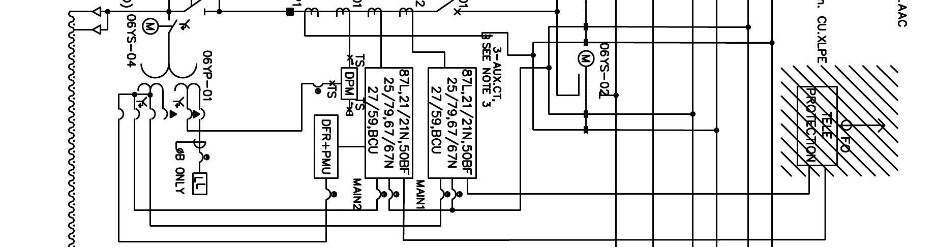115_1way_ds_w_motor: (577, 49, 601, 100), (141, 17, 178, 35)
115_vt_3p: (135, 19, 206, 121)
DPM: (340, 66, 359, 101)
LL: (192, 172, 208, 196)
tele_protection: (795, 84, 839, 167)
terminator_double: (92, 6, 109, 35)
